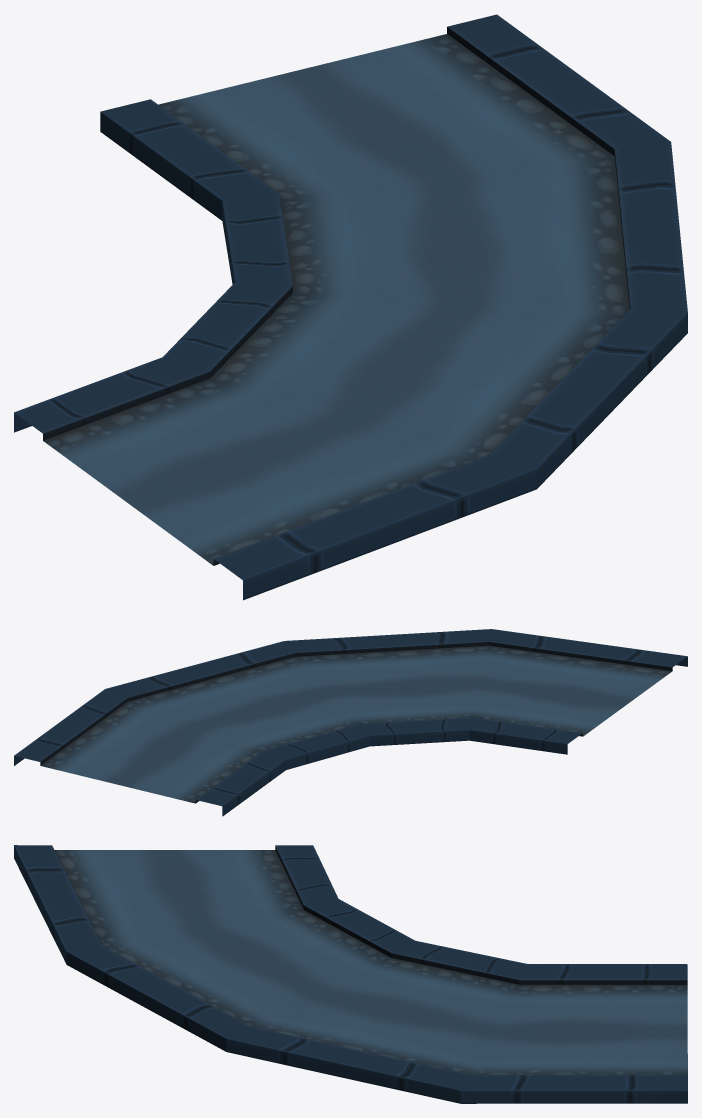
File: RoadPiece_03.FBX
3 renders of one model, top to bottom at view 1: azimuth 30°, elevation 25°; view 2: azimuth 150°, elevation 25°; view 3: azimuth 270°, elevation 25°, orthographic. The views are drawn at different scales.
Visible parts, largest first — view 1: RoadPiece_03; view 2: RoadPiece_03; view 3: RoadPiece_03.
Boxes of the visible parts, x1,y1,x2,y2 form: RoadPiece_03: (14,14,687,600); RoadPiece_03: (14,629,687,816); RoadPiece_03: (14,845,687,1103).
Bounding box in the file's own units: 317 × 7.95 × 367.
